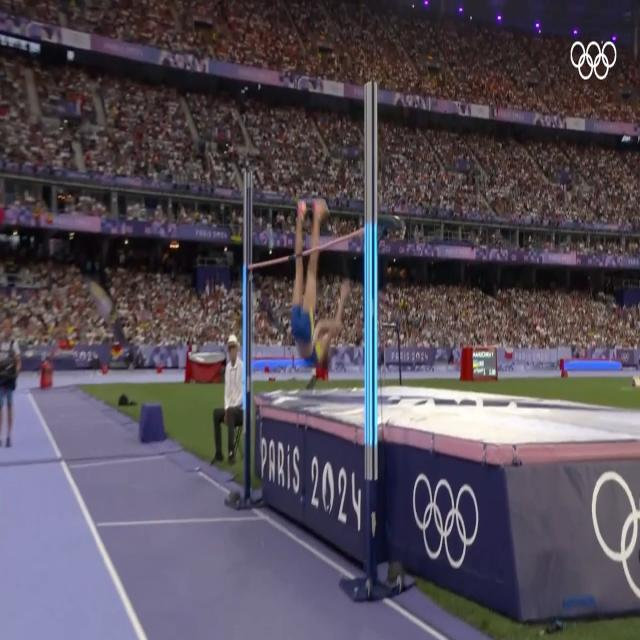land: (289, 197, 351, 370)
